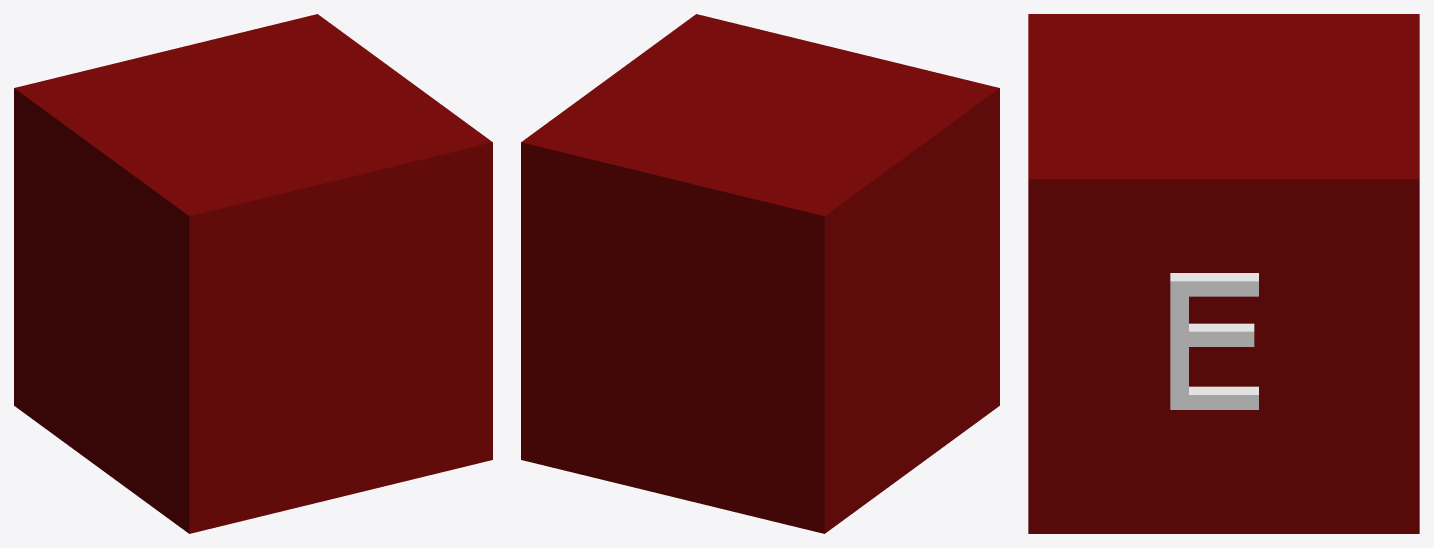
The picture shows the model from 3 angles, left to right: view 1: azimuth 30°, elevation 25°; view 2: azimuth 150°, elevation 25°; view 3: azimuth 270°, elevation 25°; orthographic projection. The views are drawn at different scales.
Visible parts, largest first — view 1: SketchUp; view 2: SketchUp; view 3: SketchUp, E_1.
Boxes of the visible parts, box(x1,y1,x2,y2) form: SketchUp: box(14, 14, 492, 533); SketchUp: box(521, 14, 999, 533); SketchUp: box(1028, 14, 1419, 533); E_1: box(1170, 273, 1258, 409).
Size of the model in its own units: 21 by 20 by 20.
